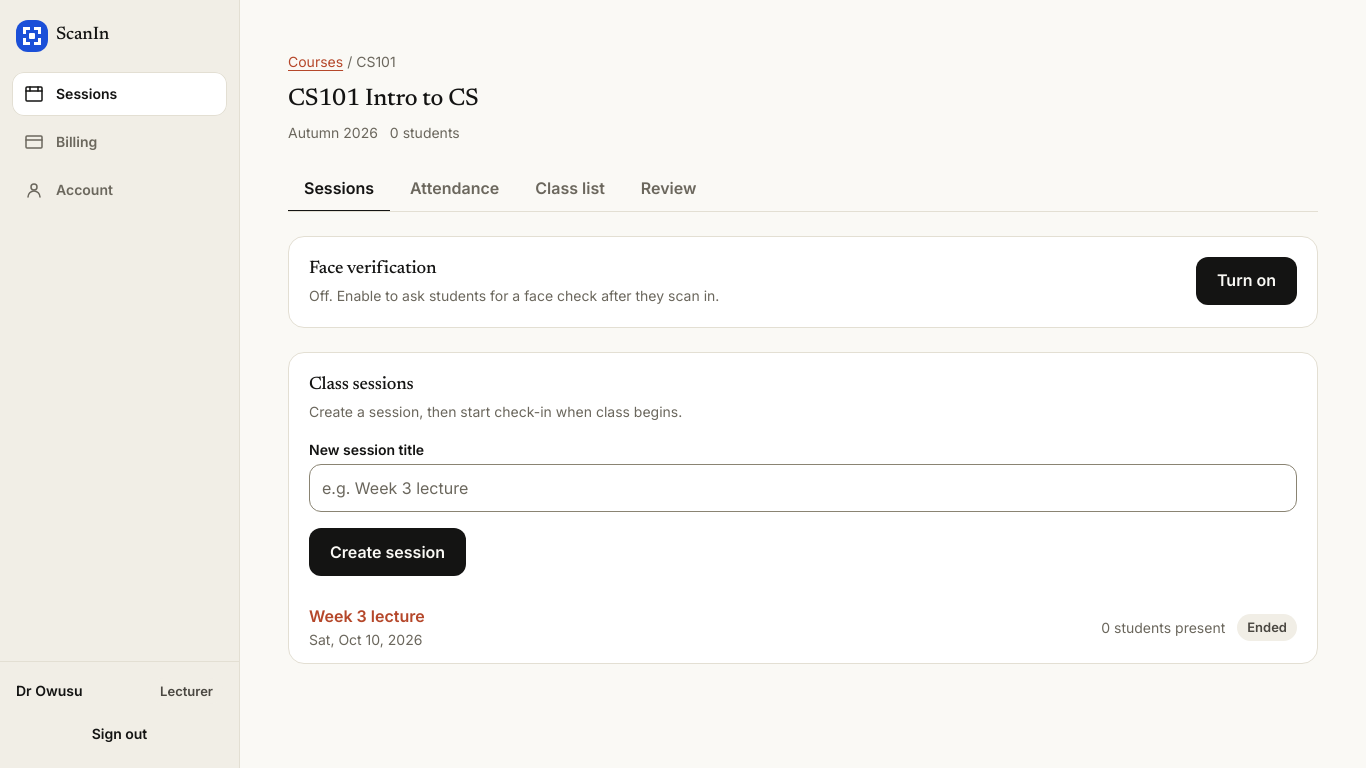
Scenario: lecturer: courses and sessions › shows a course with its sessions and creates a new session with the lecturer's local date
Check: the heading "CS101 Intro to CS" is shown, box [288,84,478,114]
Check: the list item "Week 3 lecture Sat, Oct 10, 2026 0 students present Ended" is shown, box [309,606,1297,648]
In the field labelled "New session title": point(803, 488) [309,464,1297,512], type "Week 4 lab"
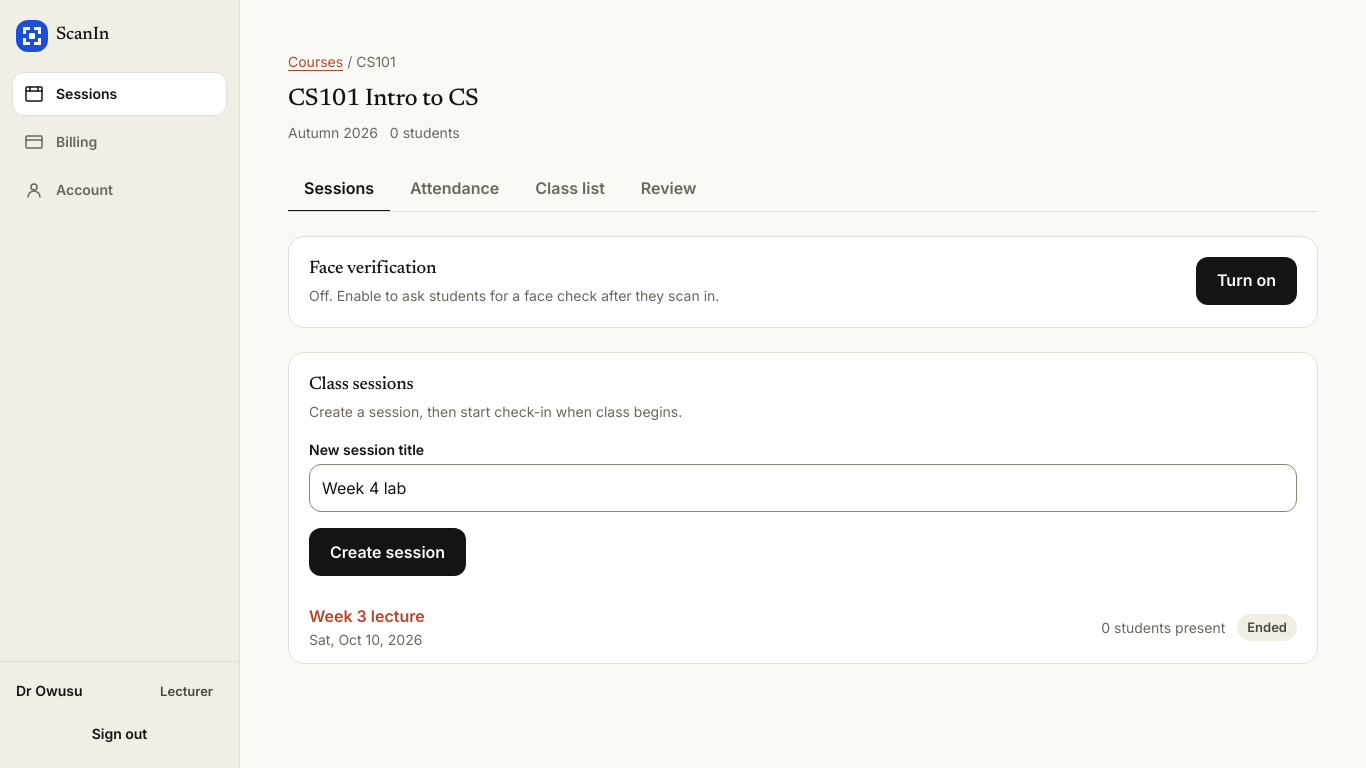
Click the button "Create session": point(388, 552) [309,528,466,576]
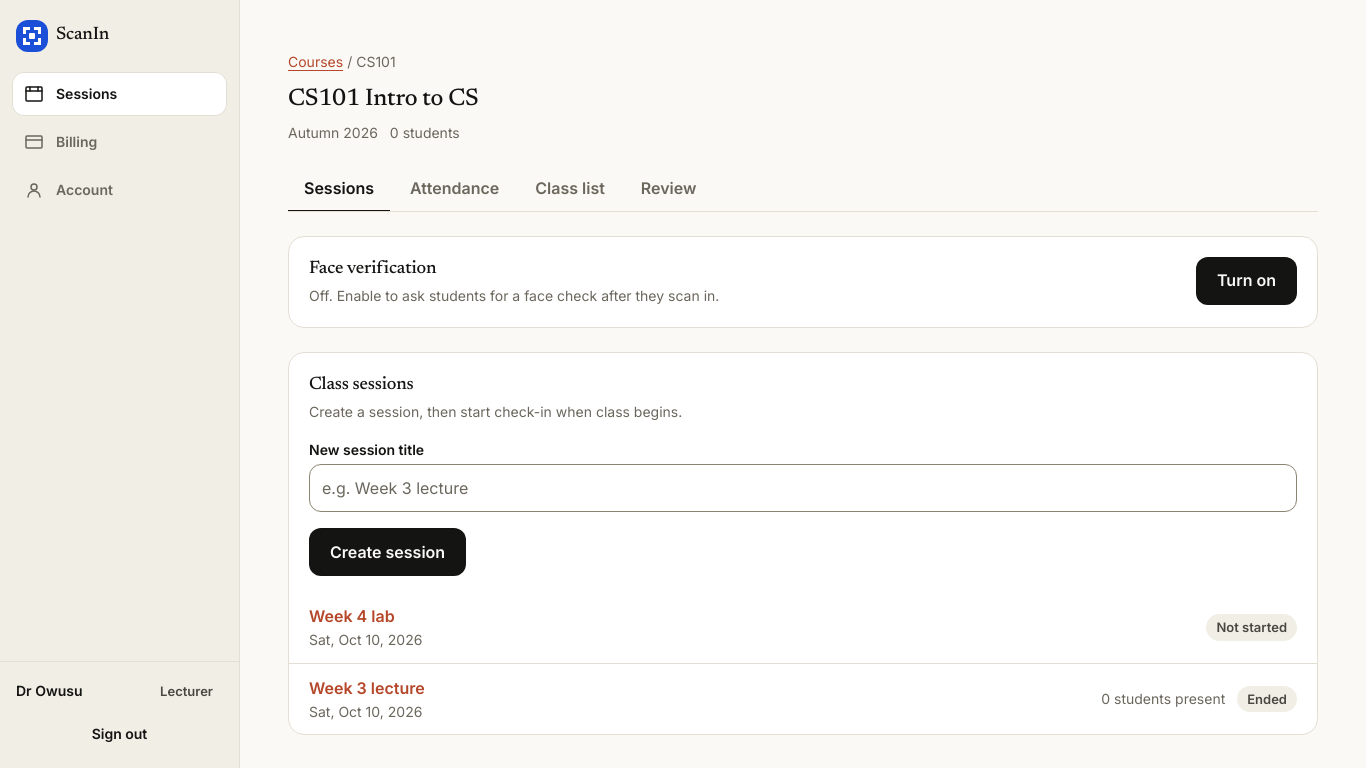
Check: the text "Week 4 lab" is shown, box [309,606,395,626]
Check: the list item "Week 4 lab Sat, Oct 10, 2026 Not started" is shown, box [309,606,1297,648]
